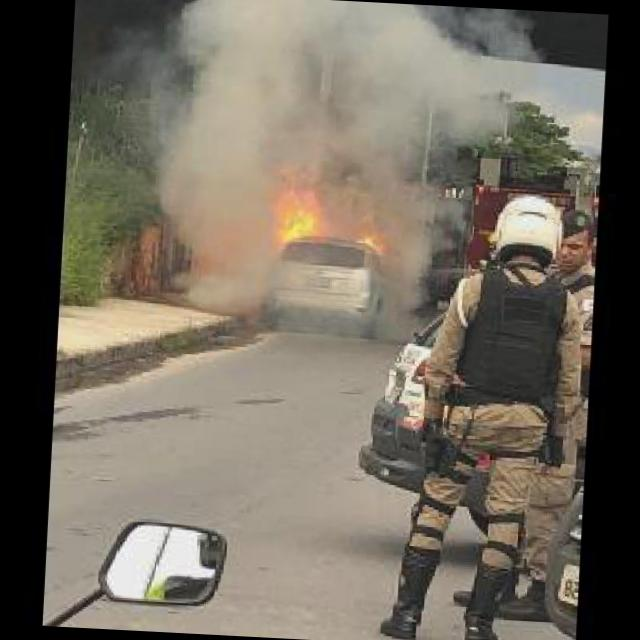fire: (276, 164, 329, 245), (358, 234, 379, 251)
smoke: (145, 0, 509, 310)
